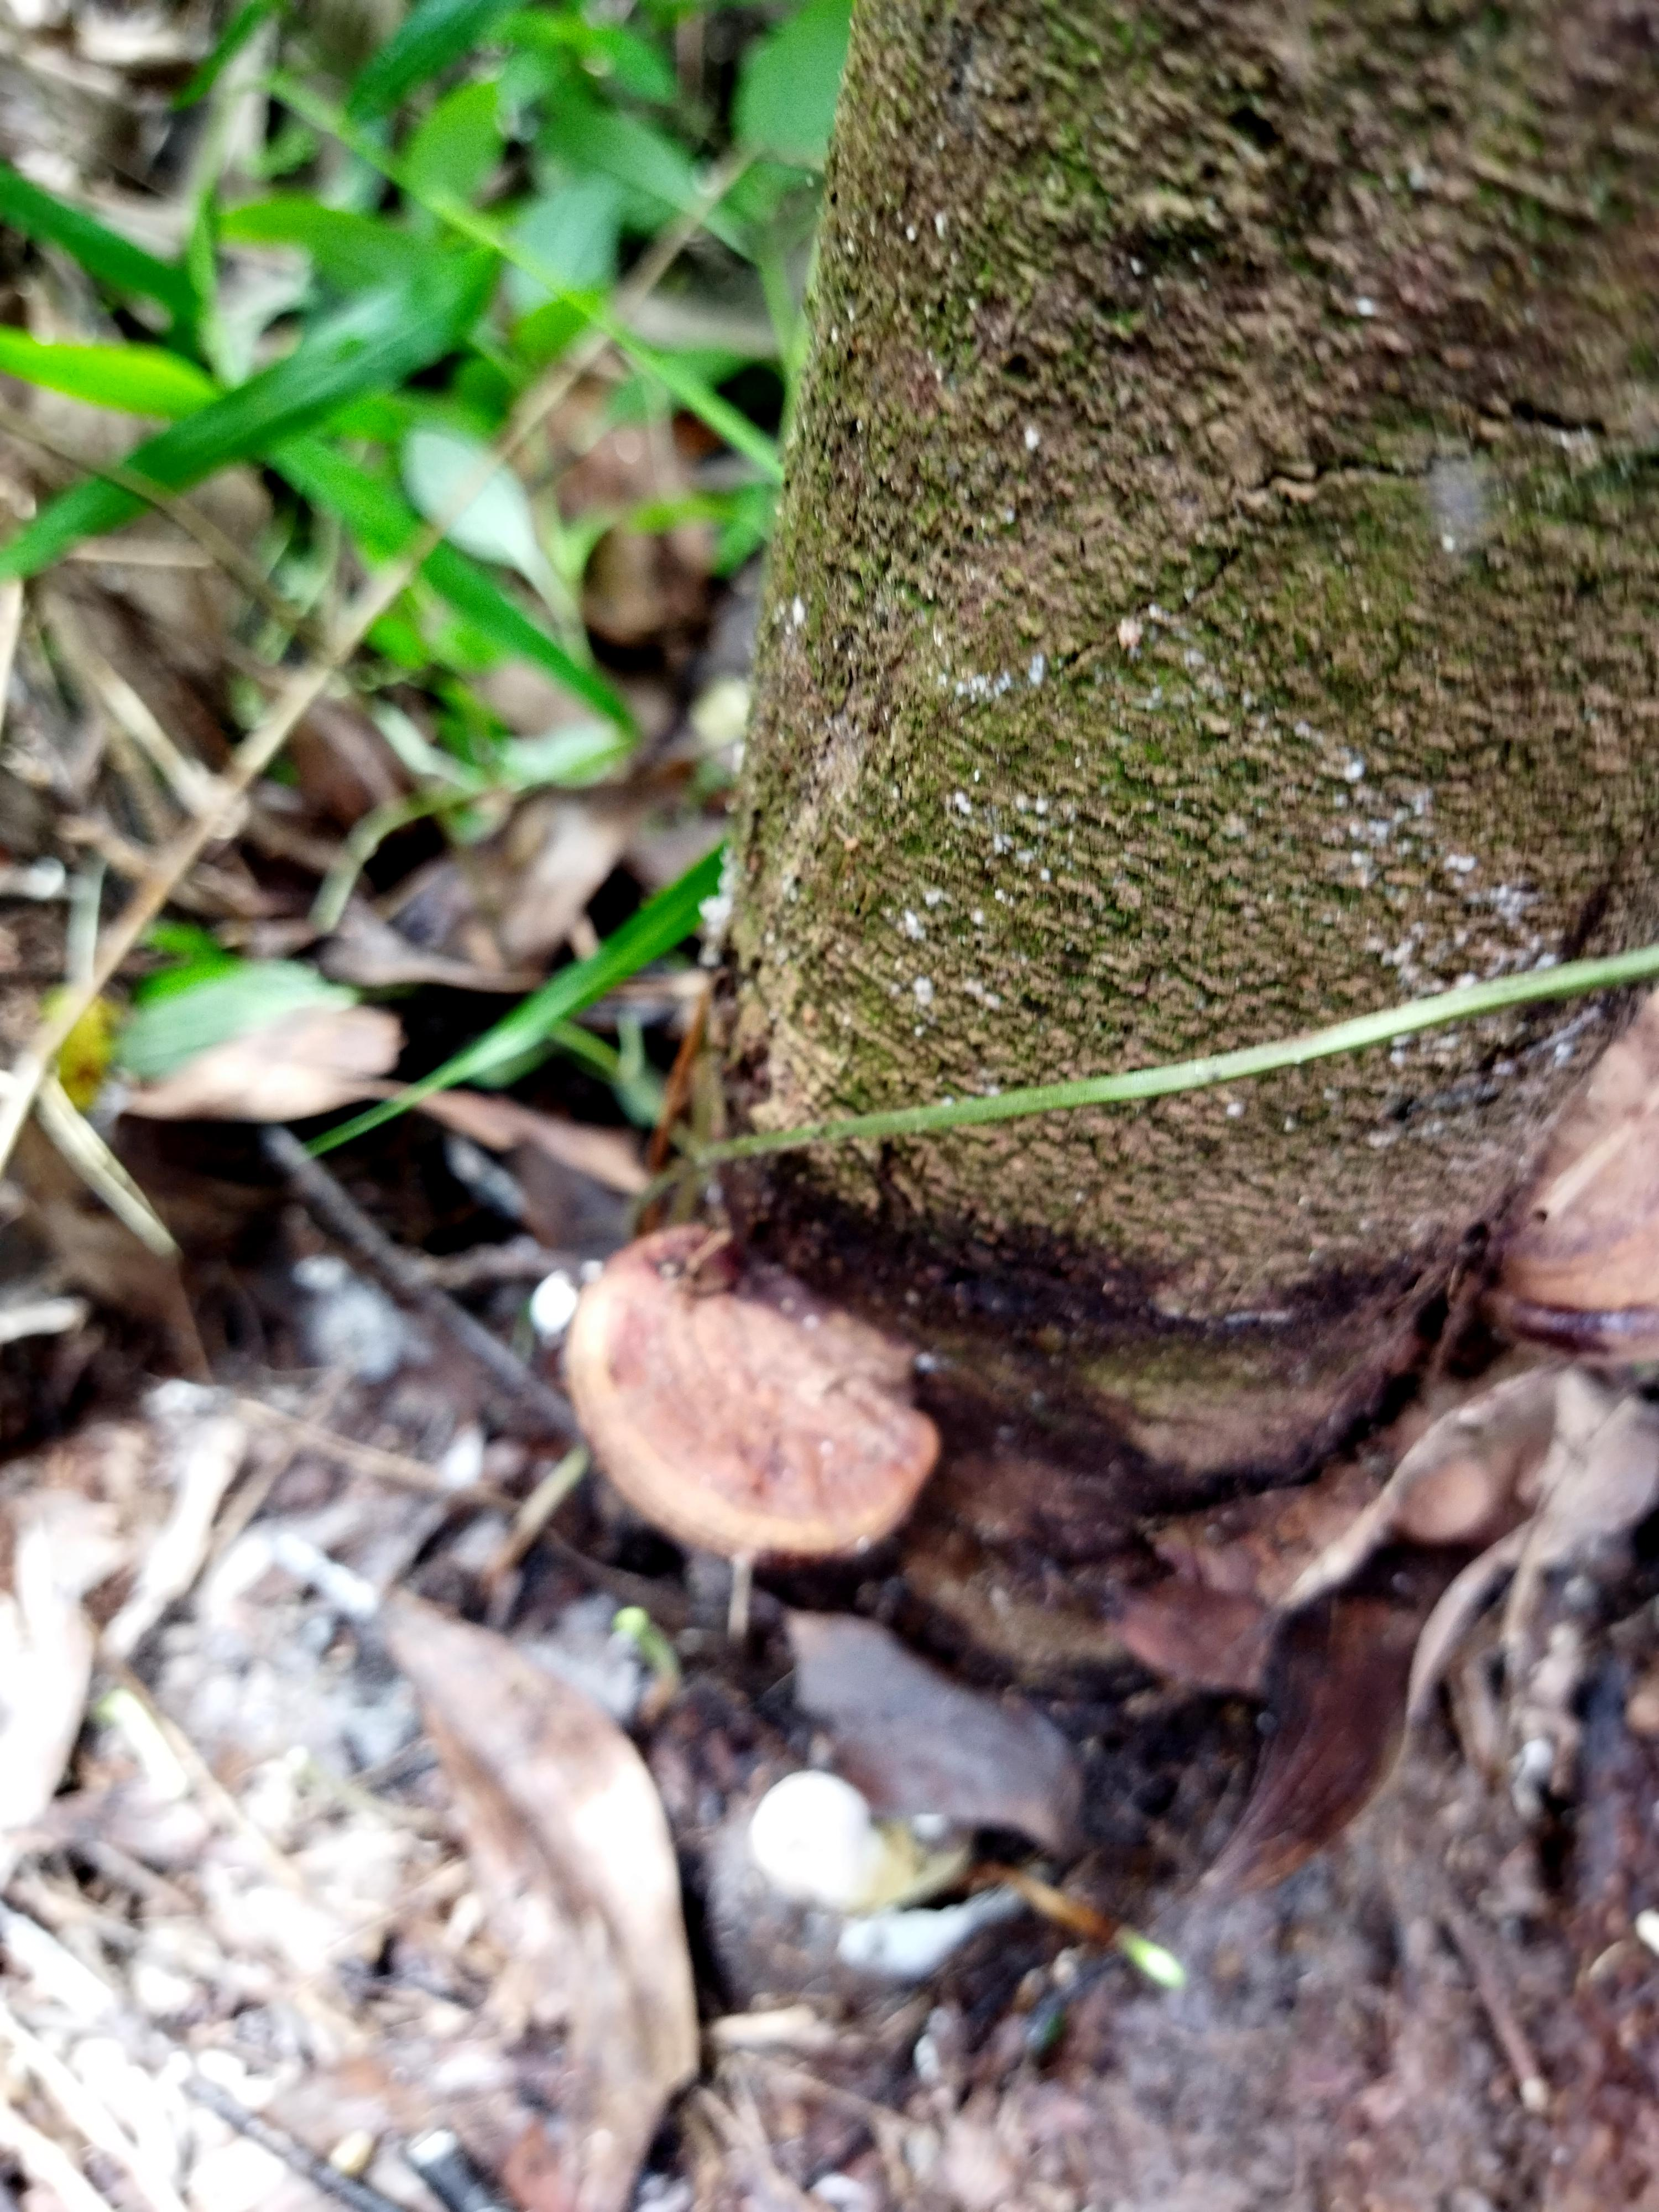Ganoderma - Fruit Body: (554, 1228, 948, 1594)
